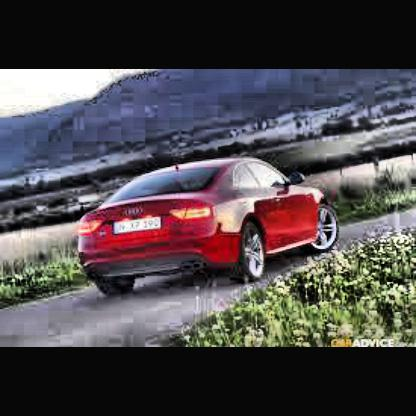Audi S5 Coupe 2012: (81, 160, 339, 299)
